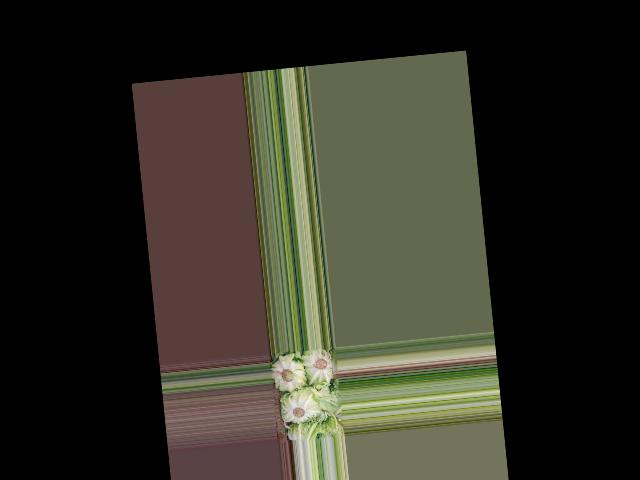lettuce: (301, 347, 335, 385)
